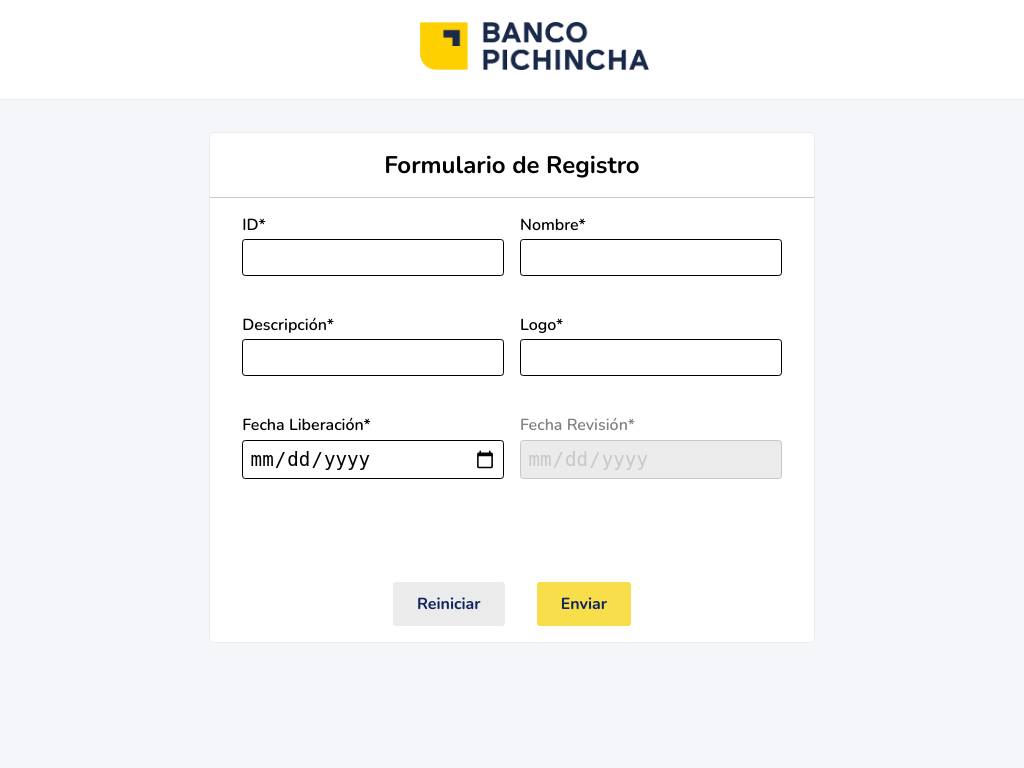
Test case: AssetForm › Inputs › Validation › Name › Requires a minimum of 5 characters
This screenshot has width=1024, height=768.
Type "a" into the field labelled "Nombre".
click(651, 257); type("a")  # box [520,239,782,276]
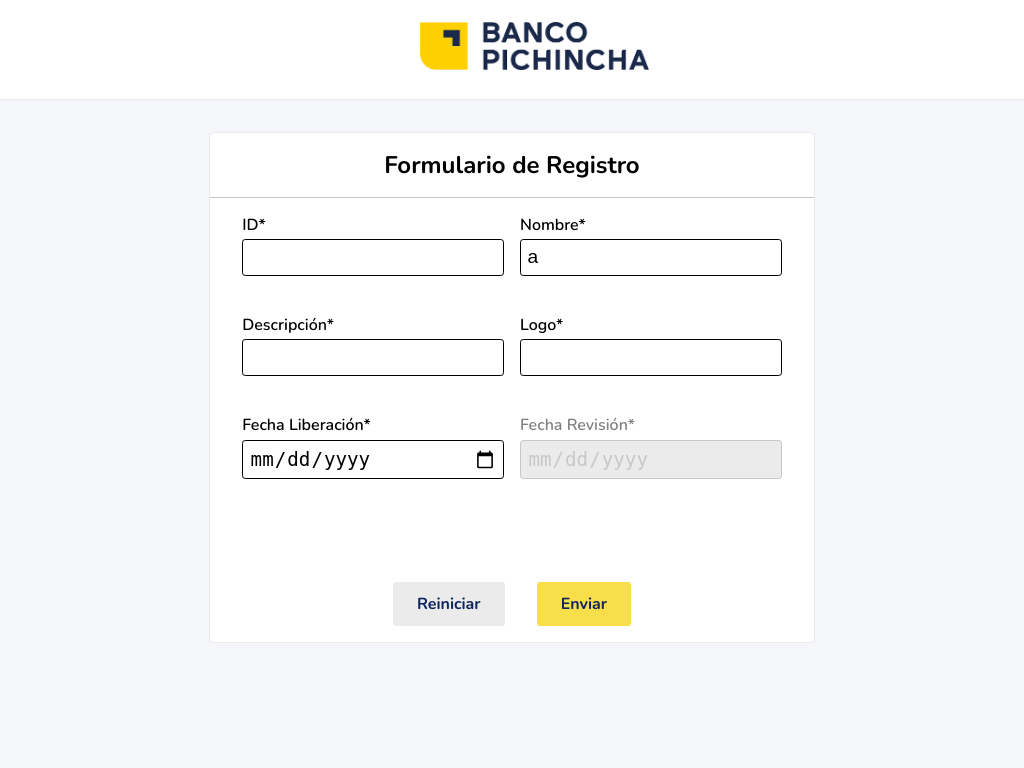
Click the button "Enviar".
click(584, 604)  # box [537,582,631,626]
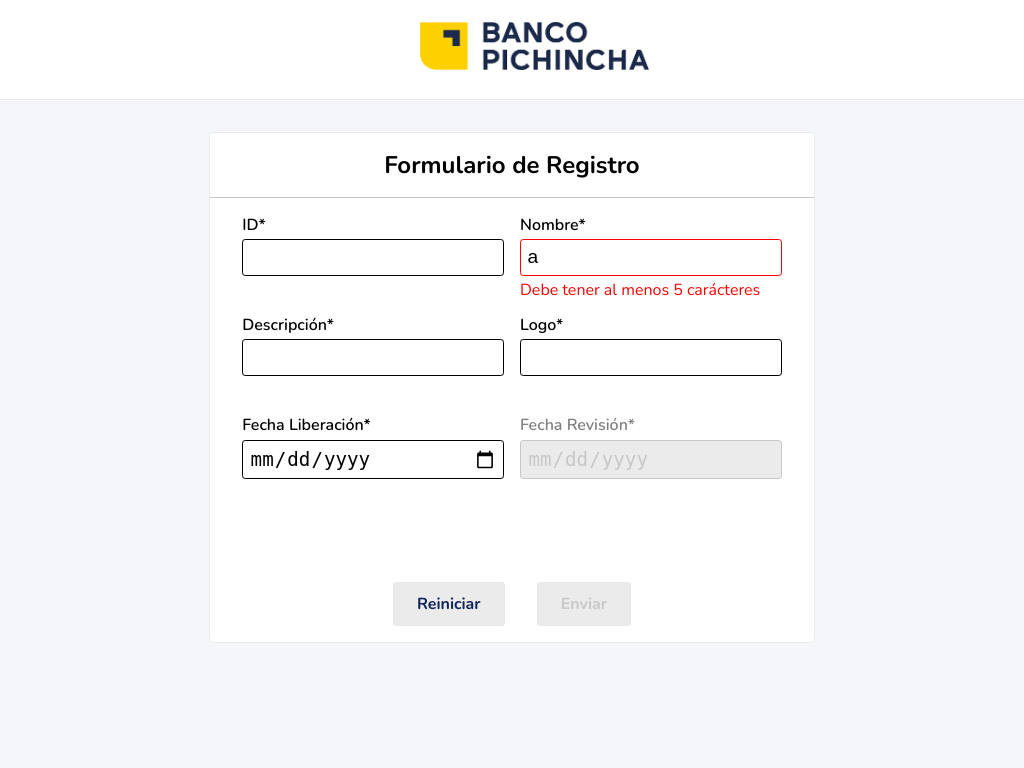
Result: the text "Debe tener al menos 5 carácteres" is shown at [520,279,782,301]
